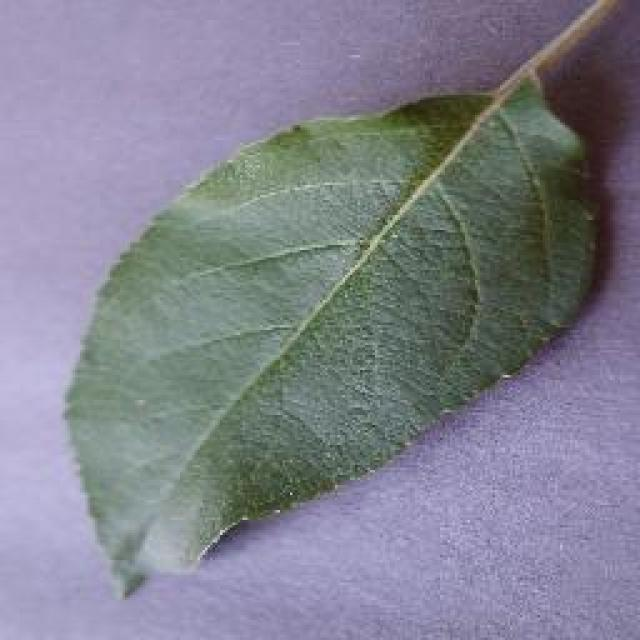apple healthy: (58, 0, 638, 598)
